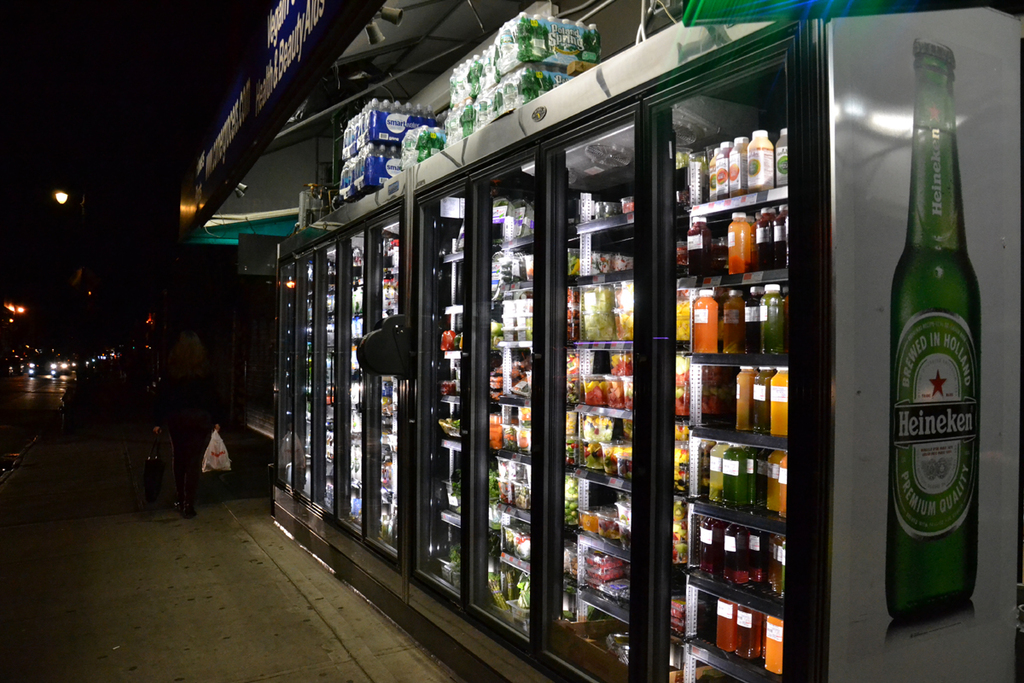refrigerator door: (662, 92, 786, 683), (550, 151, 634, 663), (478, 193, 540, 618), (417, 196, 473, 602), (364, 230, 403, 559), (344, 239, 370, 526), (314, 258, 338, 517), (298, 270, 321, 491)
